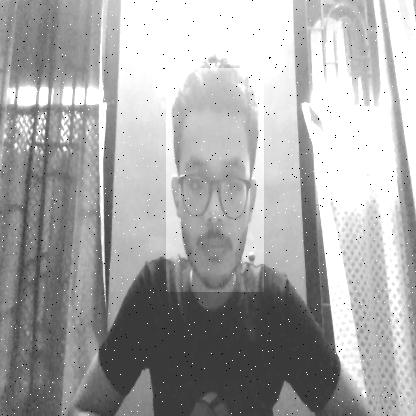Normal: (166, 69, 264, 292)
